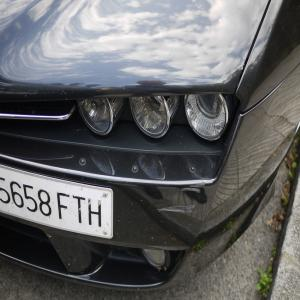Vehicle-registration-plate: (2, 165, 115, 239)
